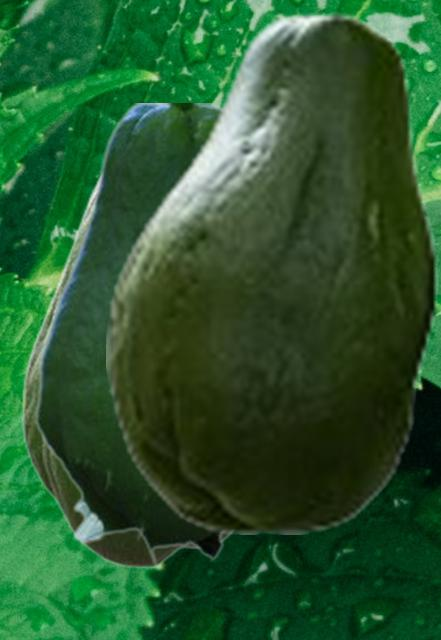sayote: (106, 11, 437, 533), (34, 103, 228, 568), (21, 173, 235, 568)
